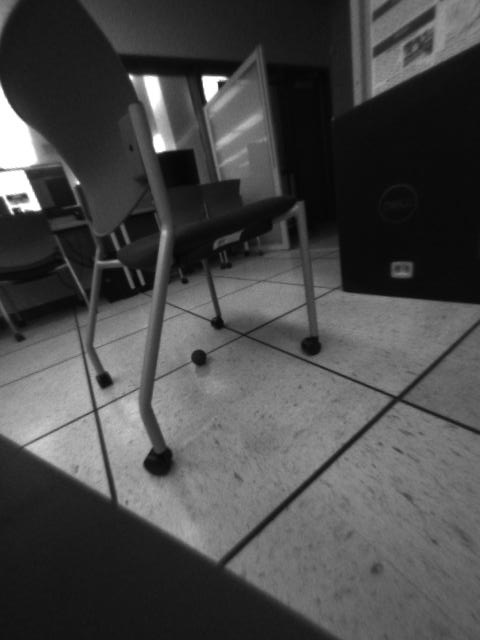dogtoy: (184, 343, 216, 371)
